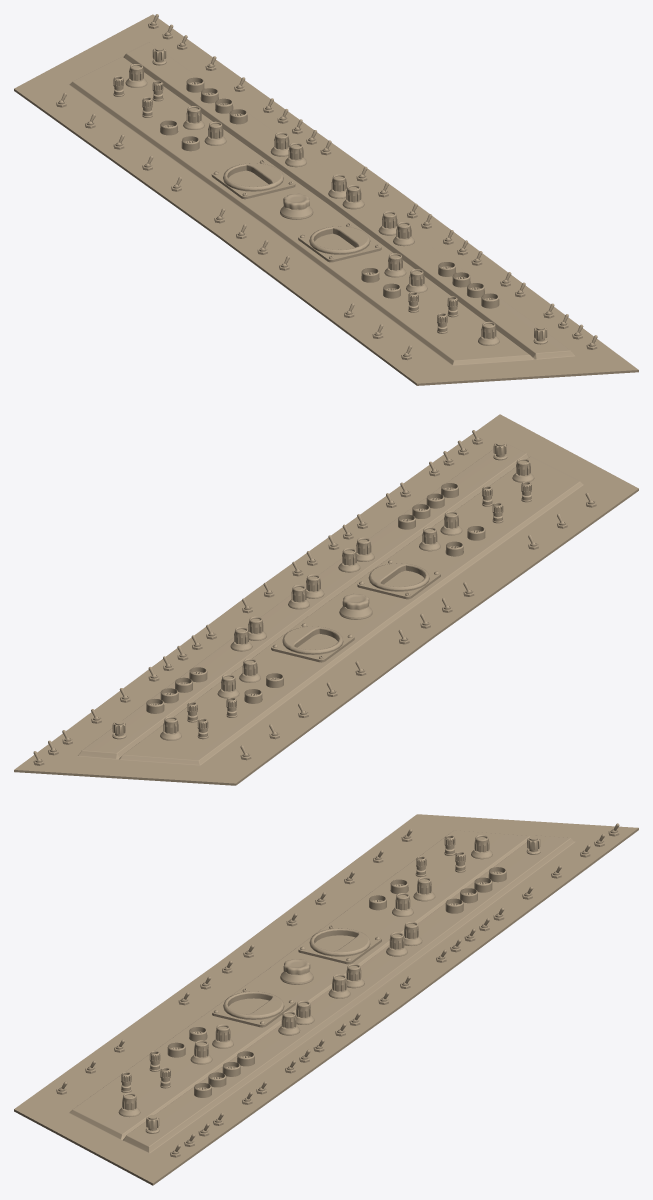
File: PlancheB 1.fbx
3 renders of one model, top to bottom at view 1: azimuth 30°, elevation 25°; view 2: azimuth 150°, elevation 25°; view 3: azimuth 330°, elevation 25°, orthographic.
Visible parts, largest first — view 1: Plan, Manometre3, Manometre2, Potar29; view 2: Plan, Manometre3, Manometre2, Potar29; view 3: Plan, Manometre2, Manometre3, Potar29.
Boxes of the visible parts, x1,y1,x2,y2 form: Plan: (14, 14, 638, 385); Manometre3: (298, 223, 381, 262); Manometre2: (211, 160, 295, 199); Potar29: (280, 193, 313, 219); Plan: (14, 414, 638, 785); Manometre3: (357, 560, 440, 599); Manometre2: (271, 623, 354, 662); Potar29: (339, 593, 372, 619); Plan: (14, 814, 638, 1185); Manometre2: (298, 925, 381, 964); Manometre3: (212, 988, 295, 1027); Potar29: (280, 959, 313, 984).
Size of the model in its own units: 73.84 by 9.26 by 338.
